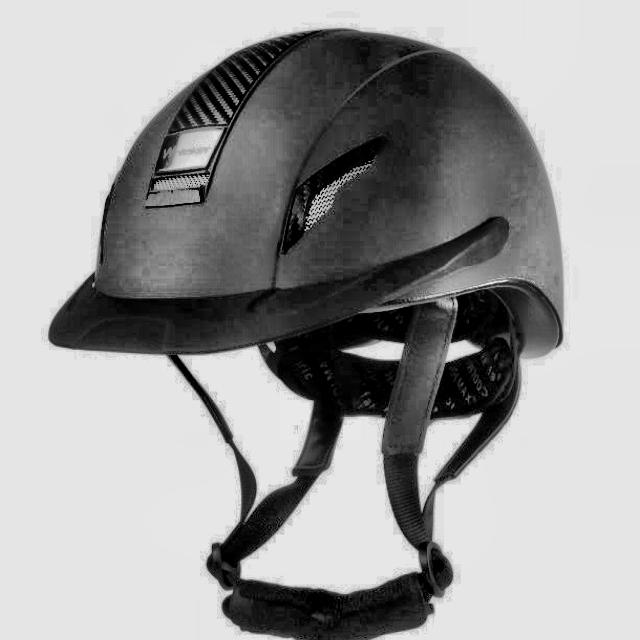Helmet: (47, 21, 569, 640)
